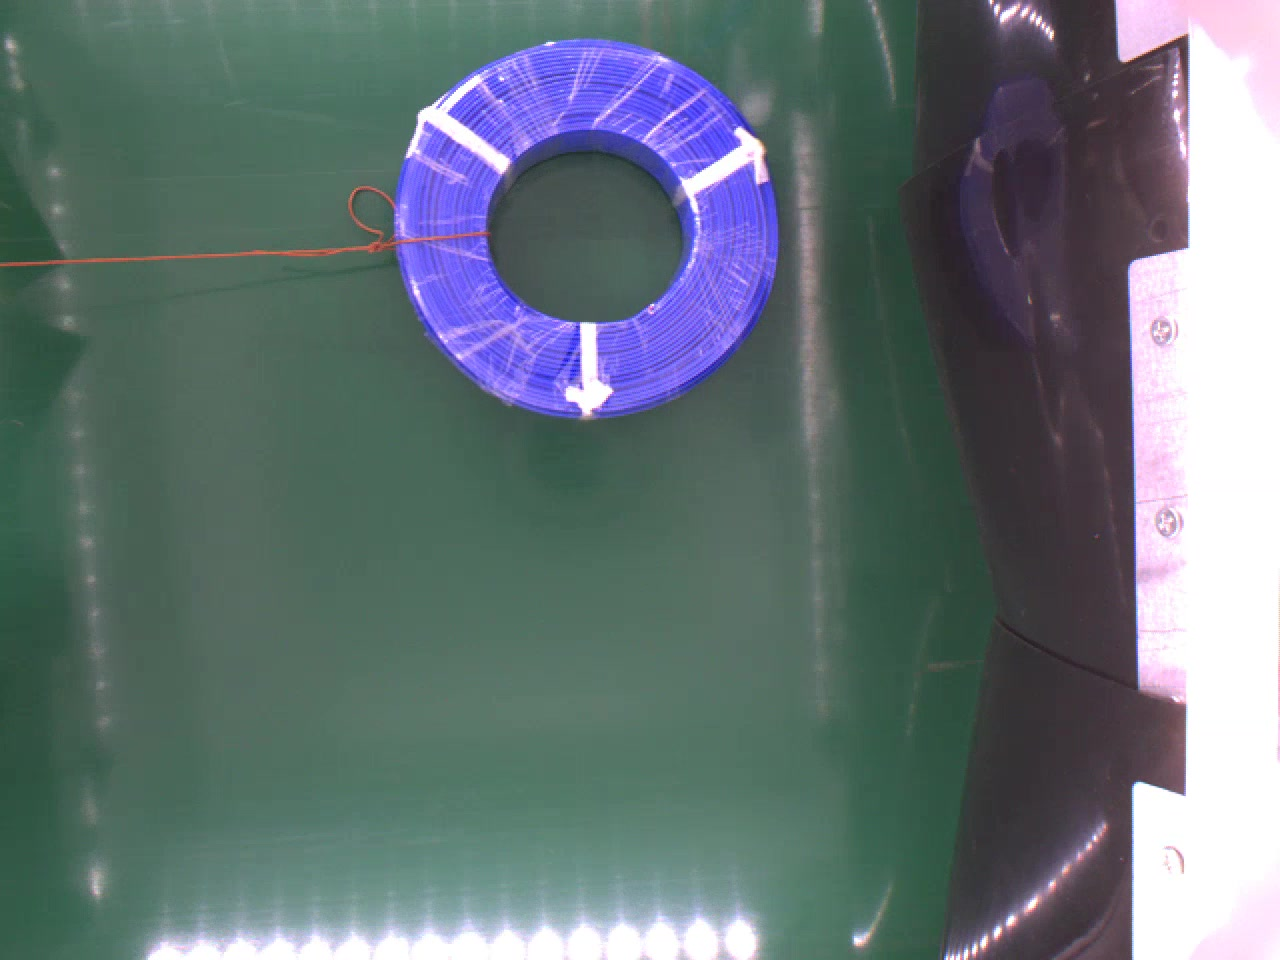blue: (384, 33, 785, 419)
